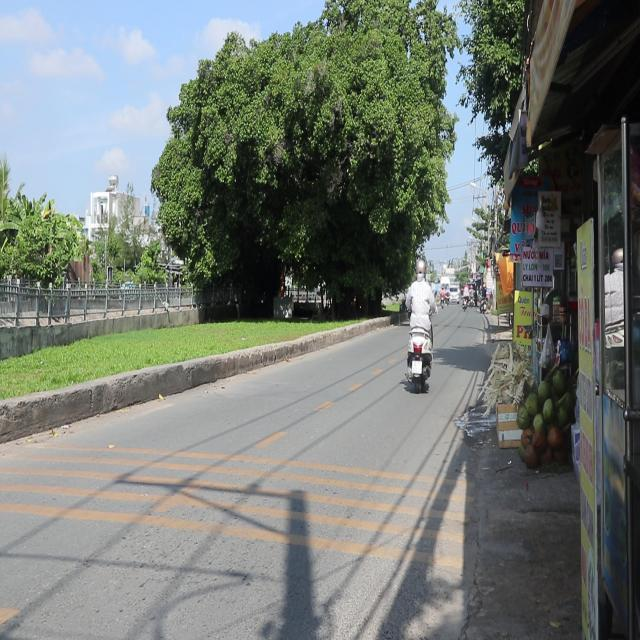helmet: (414, 258, 425, 278)
licenseplate: (402, 256, 435, 391)
